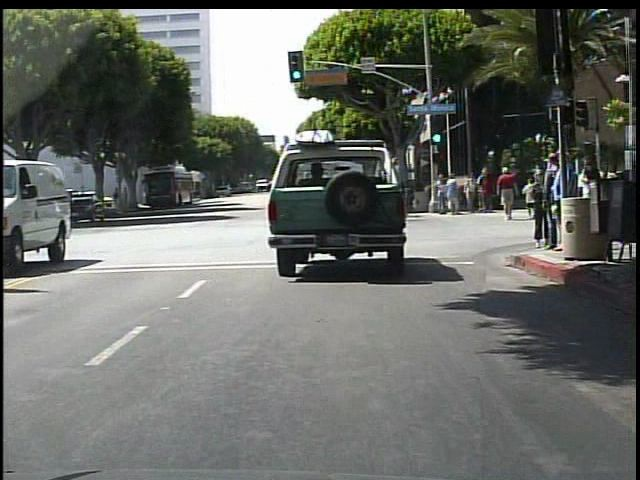person: (547, 149, 572, 261), (545, 151, 562, 253), (530, 169, 551, 251), (499, 166, 519, 223), (521, 177, 541, 224), (541, 170, 556, 219), (446, 174, 461, 217), (480, 168, 493, 212), (463, 172, 476, 212), (438, 174, 449, 214), (112, 186, 121, 210), (122, 185, 130, 211)
